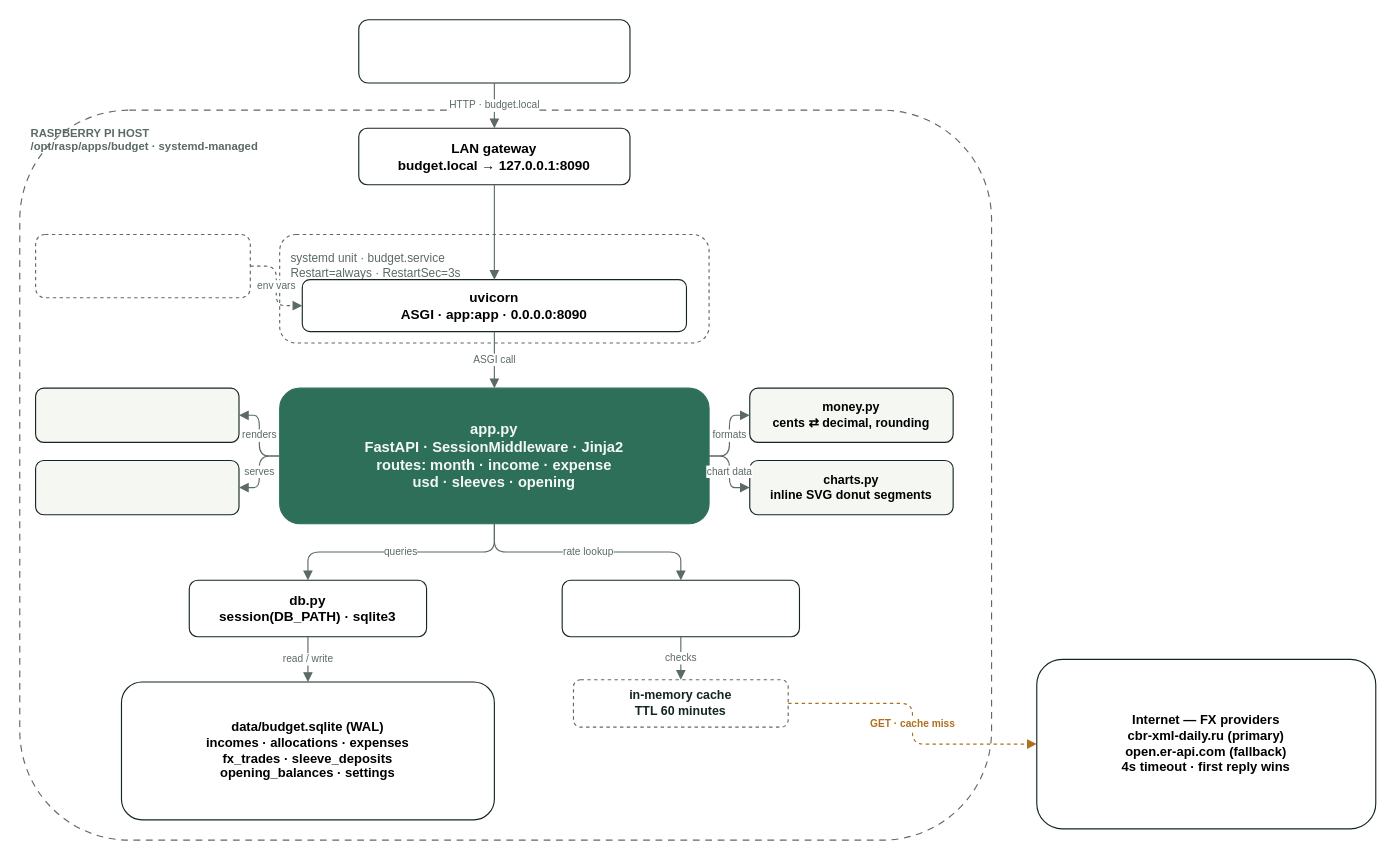
Image size: 1396x860. Some labels were removed from this diagram. Here are the shapes that lost their labels. From the top down, the centre of each, then its label:
At point 494,51: "Browser LAN device — phone / laptop".
At point 142,265: "config.env HOST · PORT · CURRENCY · DATA_DIR".
At point 136,414: "templates/ *.html via Jinja2Templates".
At point 136,487: "static/ style.css · ds/*.css · fonts".
At point 680,608: "fx.py usd_to_rub()".
